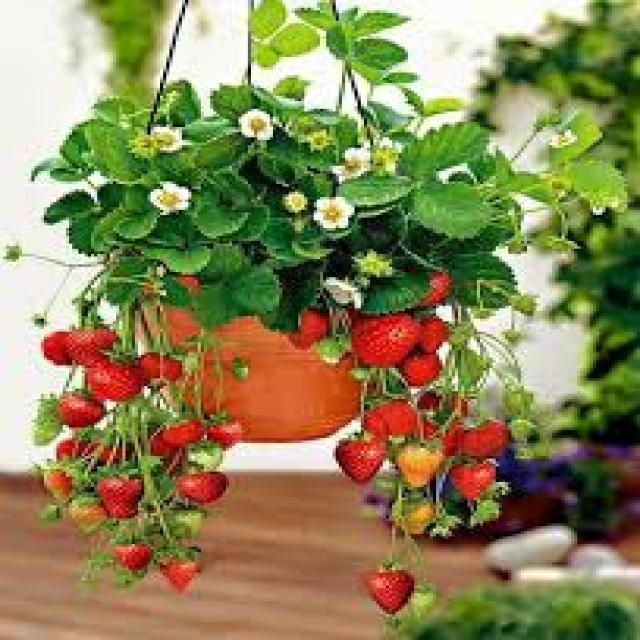Fruta sana: (441, 406, 519, 462), (362, 311, 427, 368), (368, 392, 429, 444), (414, 382, 474, 434), (84, 356, 148, 402), (452, 448, 508, 500), (96, 467, 146, 525), (398, 432, 446, 492), (68, 314, 122, 364), (337, 434, 385, 486), (368, 565, 414, 617), (391, 501, 444, 546), (404, 311, 456, 356), (383, 349, 441, 389), (286, 310, 339, 352), (52, 388, 102, 432), (418, 260, 460, 310), (134, 349, 186, 389), (163, 551, 207, 596), (62, 496, 106, 539), (167, 472, 222, 506), (207, 408, 243, 456), (144, 423, 180, 468), (90, 437, 138, 468), (36, 326, 74, 364), (112, 538, 146, 574), (44, 468, 76, 503), (169, 418, 201, 453), (60, 430, 90, 465)
